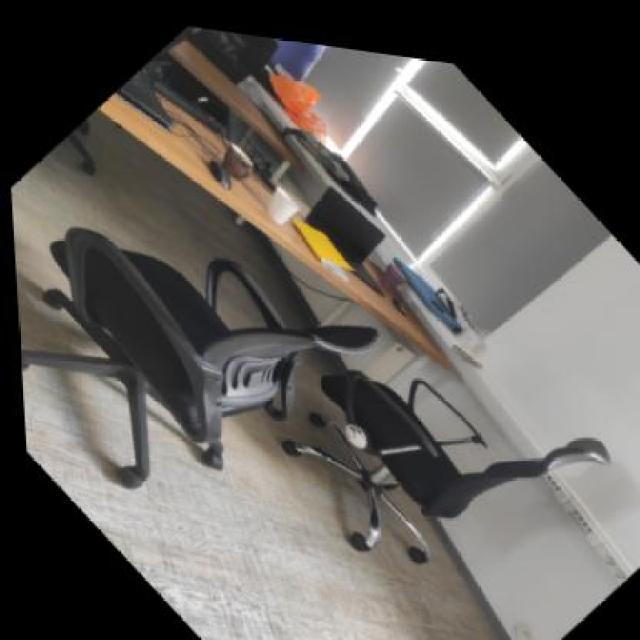chair: (4, 83, 413, 577), (234, 216, 637, 638)
